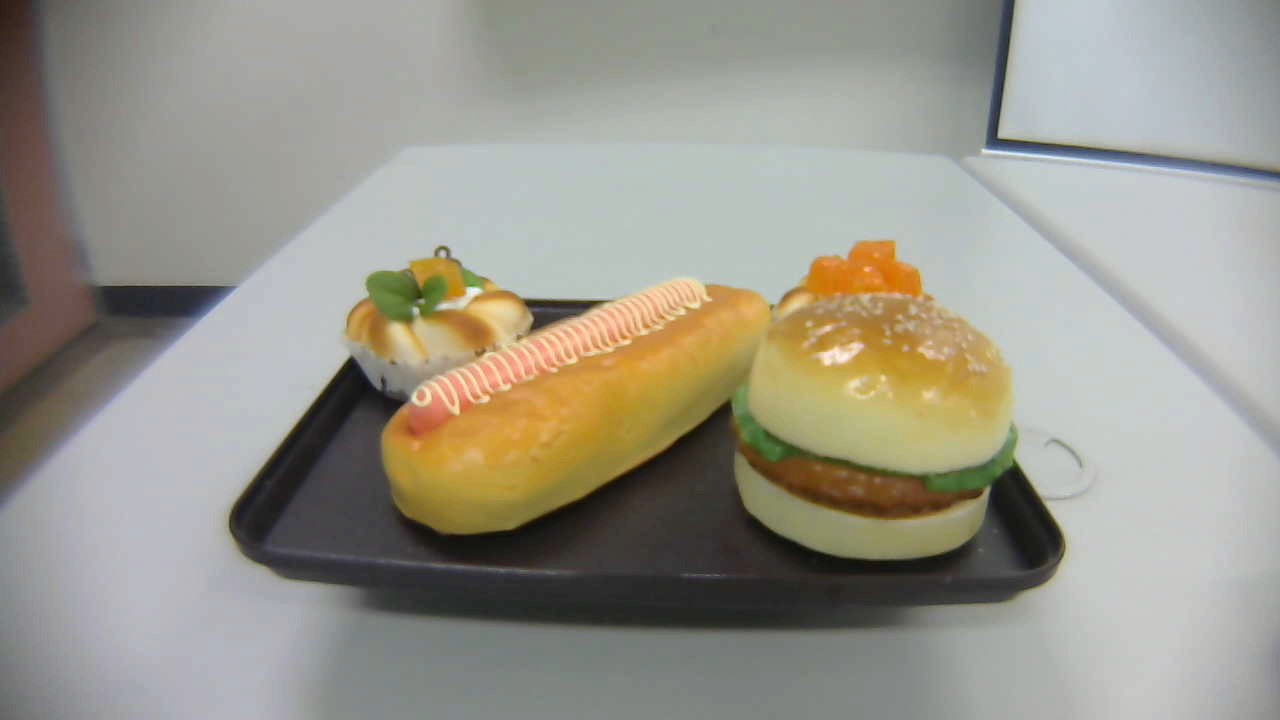fruit tart: (341, 247, 533, 405)
hamburger: (730, 294, 1018, 562)
hot dog: (379, 277, 770, 536)
mango tart: (794, 239, 935, 332)
